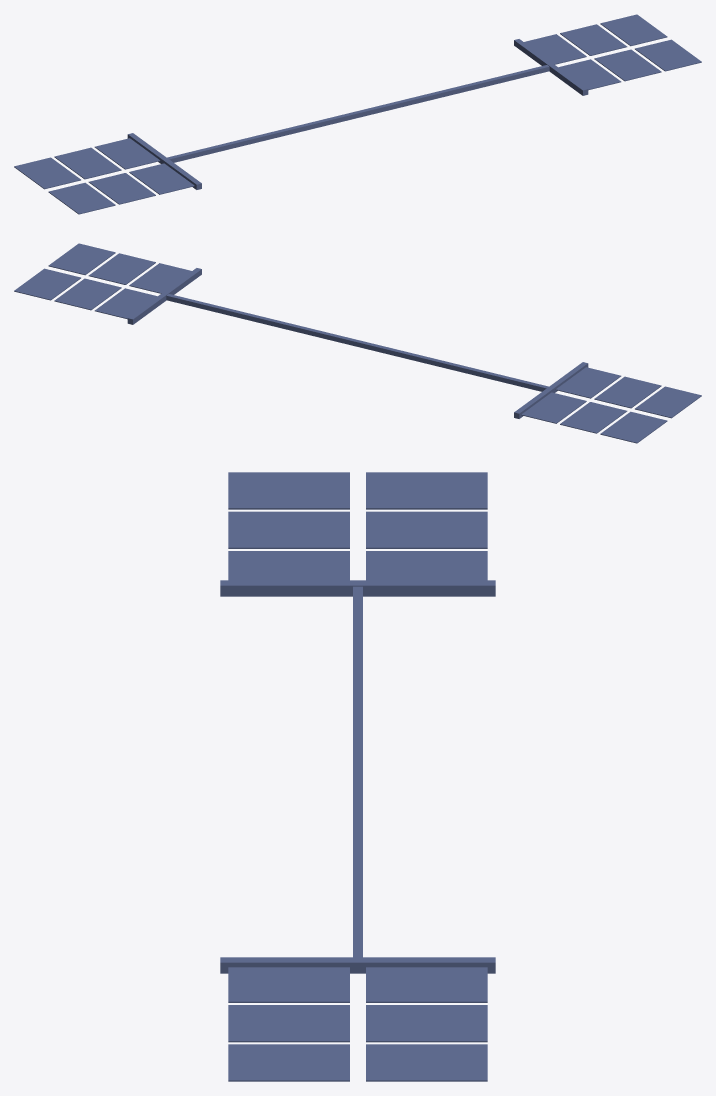
File: station_panels.glb
3 views of the same model, one above another, from view 1: azimuth 30°, elevation 25°; view 2: azimuth 150°, elevation 25°; view 3: azimuth 270°, elevation 25° (orthographic). The views are drawn at different scales.
Parts seen in each view (by area): view 1: StationPanels; view 2: StationPanels; view 3: StationPanels.
Part boxes in pixels (x1=…): StationPanels: x1=14, y1=14, x2=701, y2=214; StationPanels: x1=14, y1=243, x2=701, y2=443; StationPanels: x1=220, y1=472, x2=495, y2=1081.
Bounding box in the file's own units: 71 × 0.6 × 13.6.
